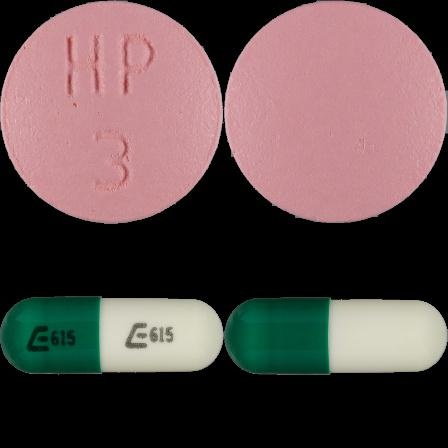62584-734: (0, 0, 224, 224)
